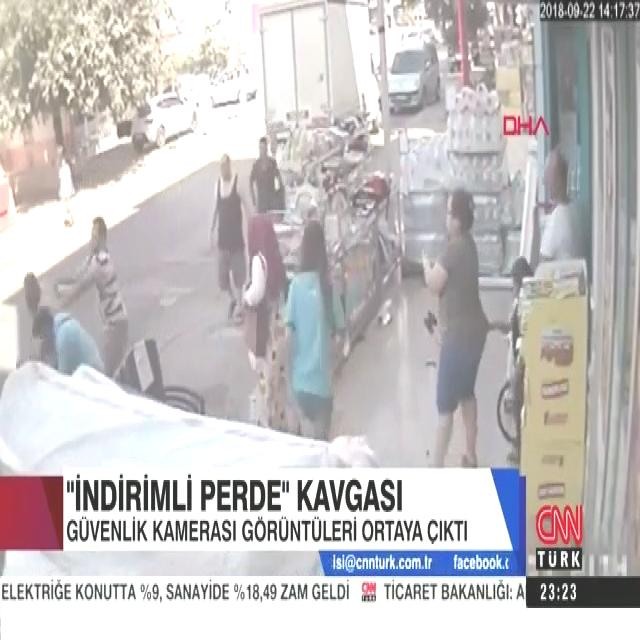fight: (23, 211, 138, 390)
